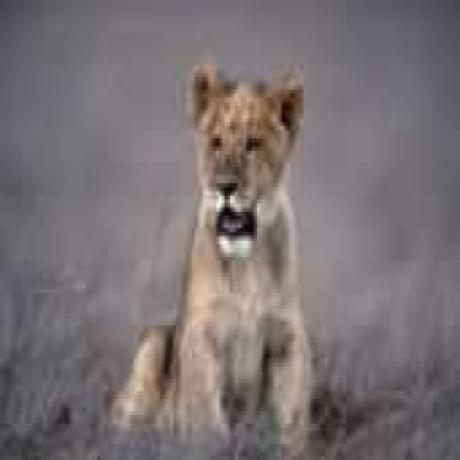Lion: (106, 62, 318, 423)
